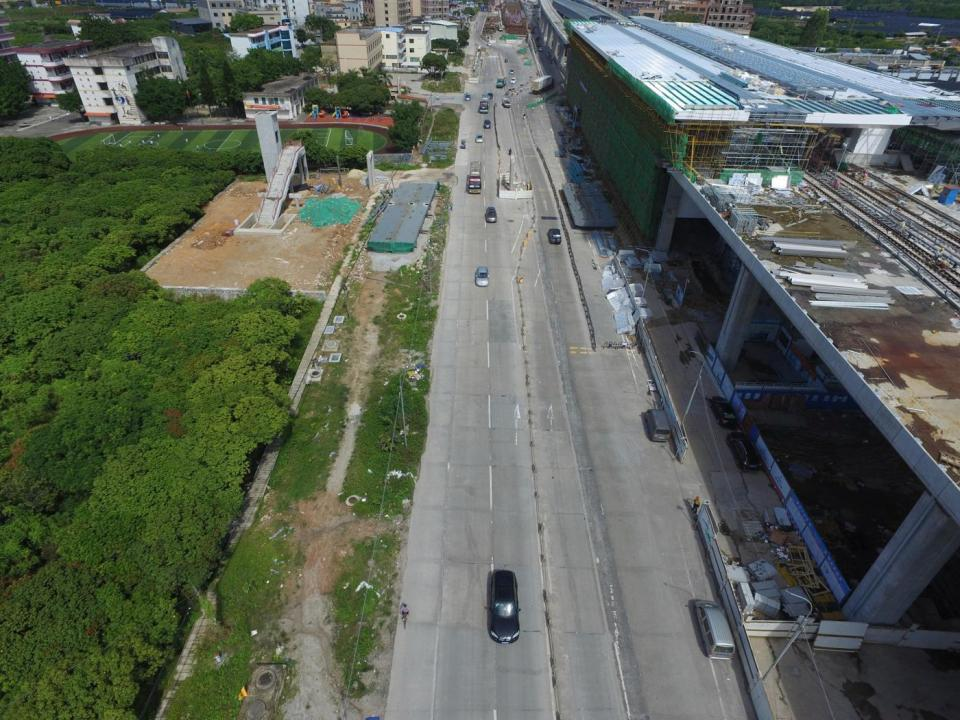bus: (466, 162, 482, 194), (547, 227, 561, 245), (475, 268, 489, 286), (478, 94, 489, 114), (485, 206, 498, 222), (484, 121, 490, 129)
car: (727, 433, 761, 471), (709, 395, 736, 429), (476, 134, 483, 144), (464, 94, 471, 100), (509, 69, 514, 74), (512, 77, 516, 83)
truck: (532, 74, 556, 94), (495, 76, 505, 89), (502, 98, 510, 108), (460, 139, 467, 150)
van: (693, 598, 734, 660), (487, 570, 520, 642), (645, 408, 670, 444)
